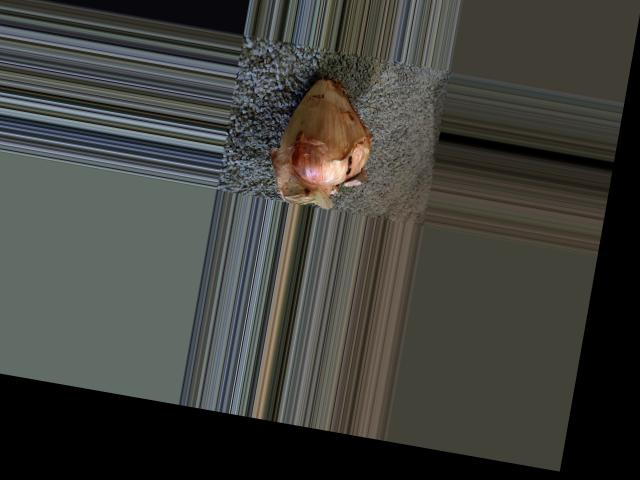onion: (280, 70, 383, 189)
